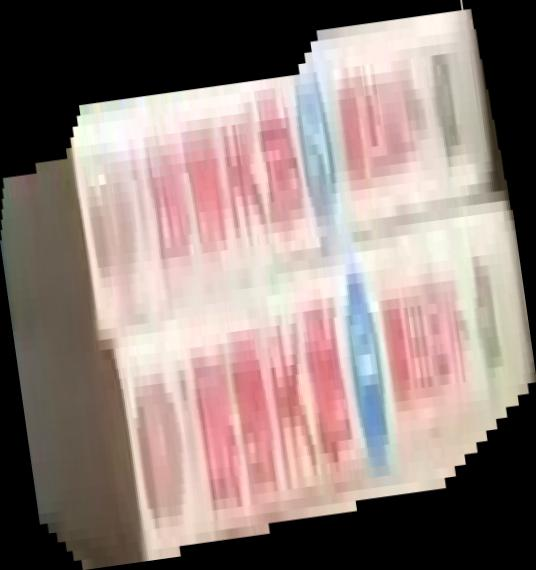flat: (1, 1, 536, 570)
